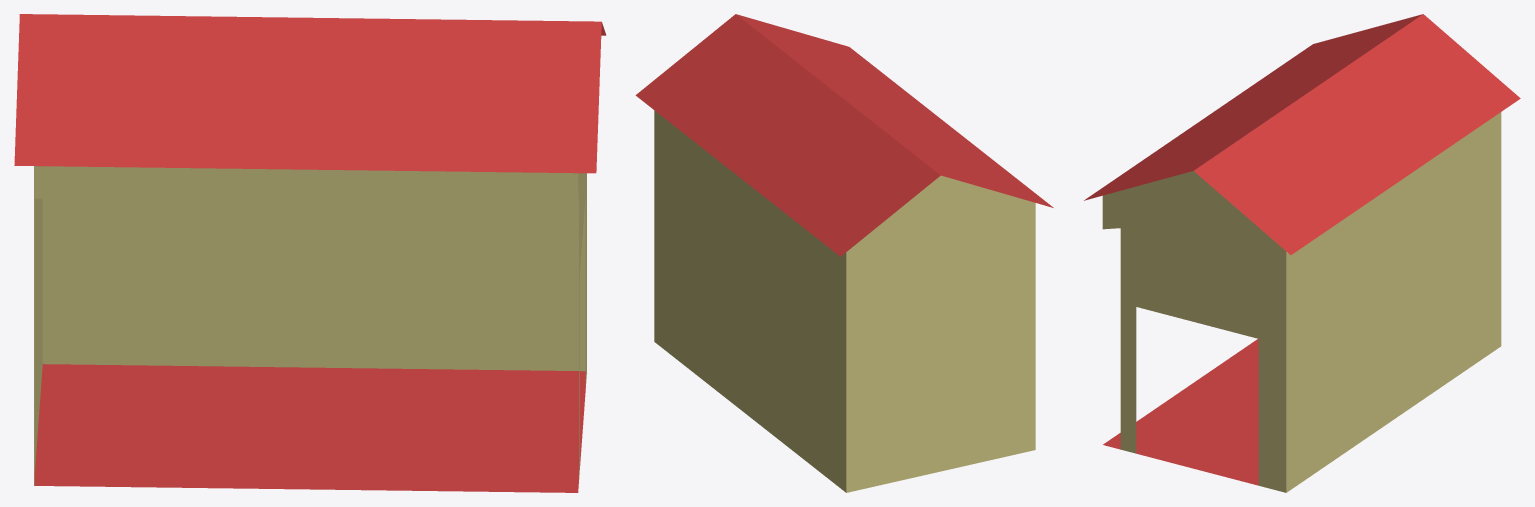
3 views of the same model, side by side, from view 1: azimuth 30°, elevation 25°; view 2: azimuth 150°, elevation 25°; view 3: azimuth 270°, elevation 25° (orthographic). The views are drawn at different scales.
Visible parts, largest first — view 1: group_5, group_3, group_6, group_4; view 2: group_5, group_3, group_4; view 3: group_5, group_3, group_6, group_4.
Boxes of the visible parts, x1,y1,x2,y2 form: group_5: (34, 166, 586, 485); group_3: (14, 14, 606, 173); group_6: (34, 364, 585, 492); group_4: (14, 14, 592, 173); group_5: (654, 110, 1035, 492); group_3: (654, 14, 1034, 241); group_4: (635, 14, 1053, 256); group_5: (1102, 112, 1501, 492); group_3: (1084, 14, 1500, 249); group_6: (1103, 339, 1258, 485); group_4: (1086, 14, 1520, 254).
Size of the model in its own units: 26.52 by 23.22 by 17.84.
